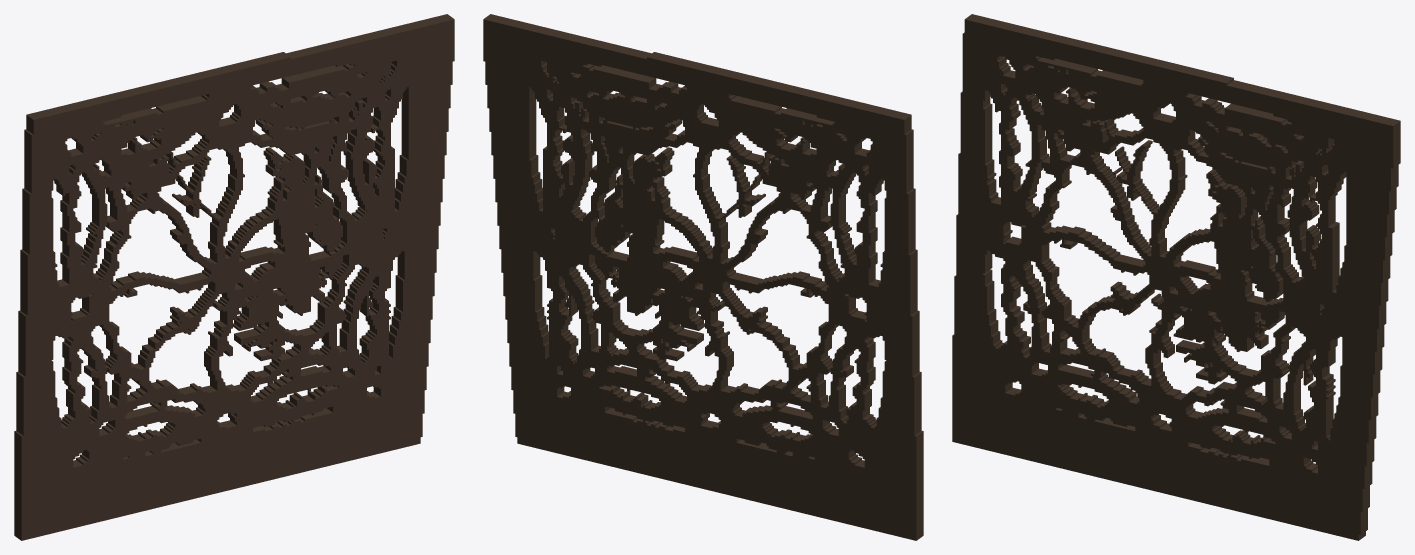
File: lattice_window.glb
3 views of the same model, side by side, from view 1: azimuth 30°, elevation 25°; view 2: azimuth 150°, elevation 25°; view 3: azimuth 330°, elevation 25° (orthographic).
Parts seen in each view (by area): view 1: Lattice_Silhouette; view 2: Lattice_Silhouette; view 3: Lattice_Silhouette.
Boxes of the visible parts, x1,y1,x2,y2 form: Lattice_Silhouette: [14, 14, 454, 540]; Lattice_Silhouette: [483, 14, 923, 540]; Lattice_Silhouette: [952, 14, 1400, 540].
Bounding box in the file's own units: 1.5 × 1.38 × 0.0437.
